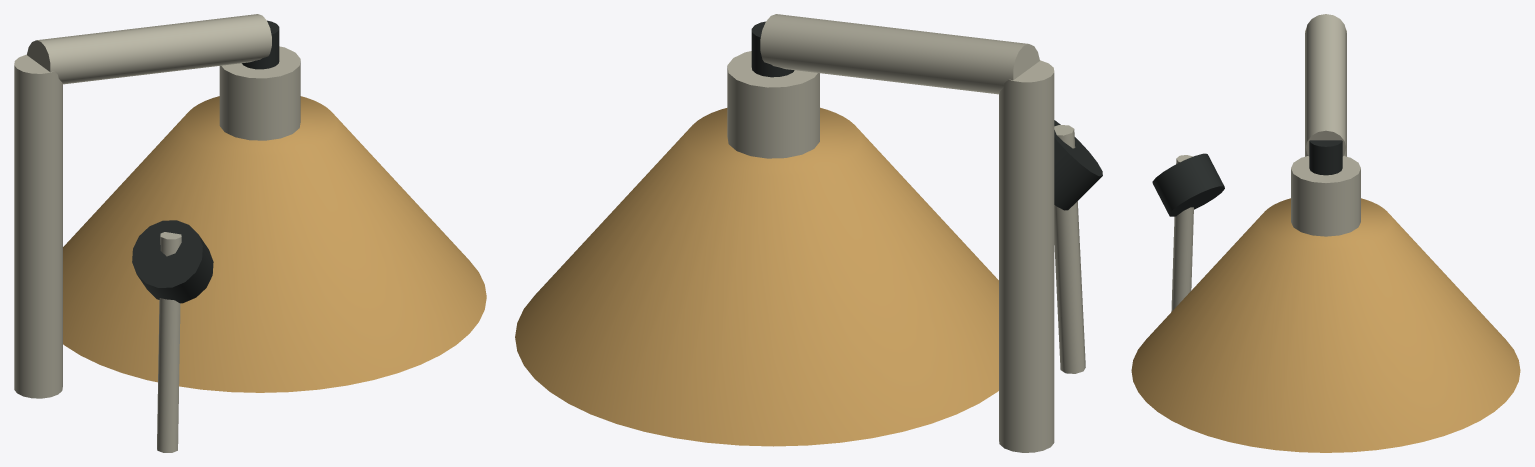
File: Studio.glb
3 views of the same model, side by side, from view 1: azimuth 30°, elevation 25°; view 2: azimuth 150°, elevation 25°; view 3: azimuth 270°, elevation 25° (orthographic). The views are drawn at different scales.
Parts seen in each view (by area): view 1: Bell skirt, Suspension yoke, Hanger, Crown, Clapper, Striker spring, Suspension pin; view 2: Bell skirt, Suspension yoke, Hanger, Crown, Striker spring, Clapper, Suspension pin; view 3: Bell skirt, Hanger, Crown, Clapper, Striker spring, Suspension pin.
Part boxes in pixels (x1=…): Bell skirt: x1=63, y1=96, x2=486, y2=392; Suspension yoke: x1=14, y1=54, x2=62, y2=398; Hanger: x1=27, y1=14, x2=271, y2=84; Crown: x1=219, y1=46, x2=300, y2=140; Clapper: x1=132, y1=220, x2=213, y2=303; Striker spring: x1=157, y1=232, x2=181, y2=452; Suspension pin: x1=242, y1=20, x2=279, y2=69; Bell skirt: x1=515, y1=107, x2=998, y2=446; Suspension yoke: x1=999, y1=60, x2=1054, y2=452; Hanger: x1=760, y1=14, x2=1039, y2=94; Crown: x1=727, y1=51, x2=819, y2=158; Striker spring: x1=1054, y1=125, x2=1085, y2=373; Clapper: x1=1054, y1=120, x2=1102, y2=210; Suspension pin: x1=751, y1=21, x2=794, y2=77; Bell skirt: x1=1131, y1=198, x2=1520, y2=452; Hanger: x1=1305, y1=14, x2=1346, y2=156; Crown: x1=1291, y1=156, x2=1360, y2=236; Clapper: x1=1152, y1=153, x2=1224, y2=216; Striker spring: x1=1171, y1=155, x2=1193, y2=311; Suspension pin: x1=1309, y1=140, x2=1342, y2=175.
Bounding box in the file's own units: 0.4954 × 0.3833 × 0.4429.
